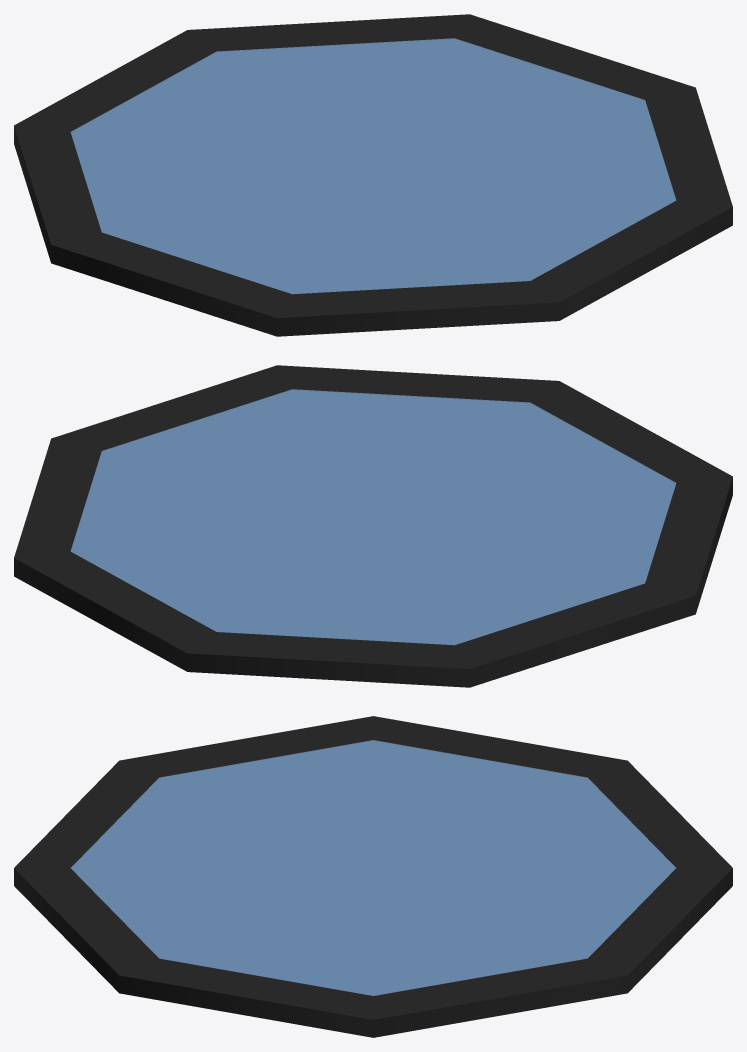
File: floorlights.fbx
The picture shows the model from 3 angles, top to bottom: view 1: azimuth 30°, elevation 25°; view 2: azimuth 150°, elevation 25°; view 3: azimuth 270°, elevation 25°; orthographic projection. The views are drawn at different scales.
Visible parts, largest first — view 1: floorlights; view 2: floorlights; view 3: floorlights.
Part boxes in pixels (left/top/right/bottom): floorlights: left=14, top=14, right=732, bottom=336; floorlights: left=14, top=365, right=732, bottom=687; floorlights: left=14, top=716, right=732, bottom=1037.
Bounding box in the file's own units: 0.4472 × 0.0123 × 0.4472.
